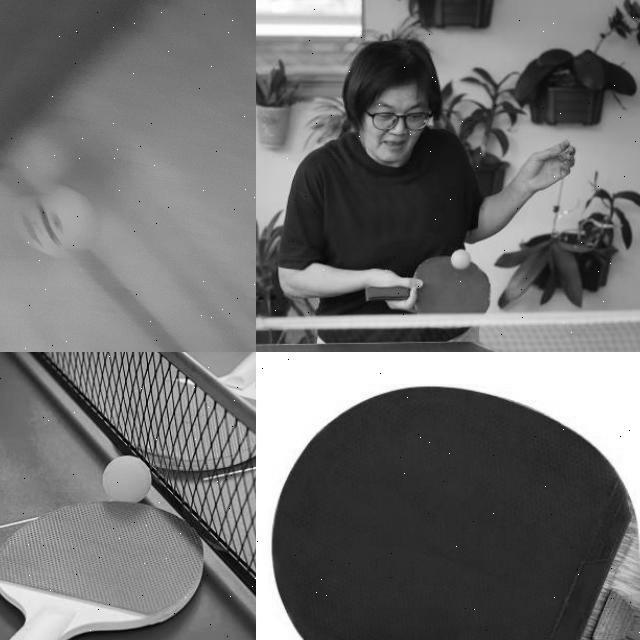ping-pong-ball: (15, 183, 96, 255), (104, 455, 152, 503), (452, 249, 470, 267)
